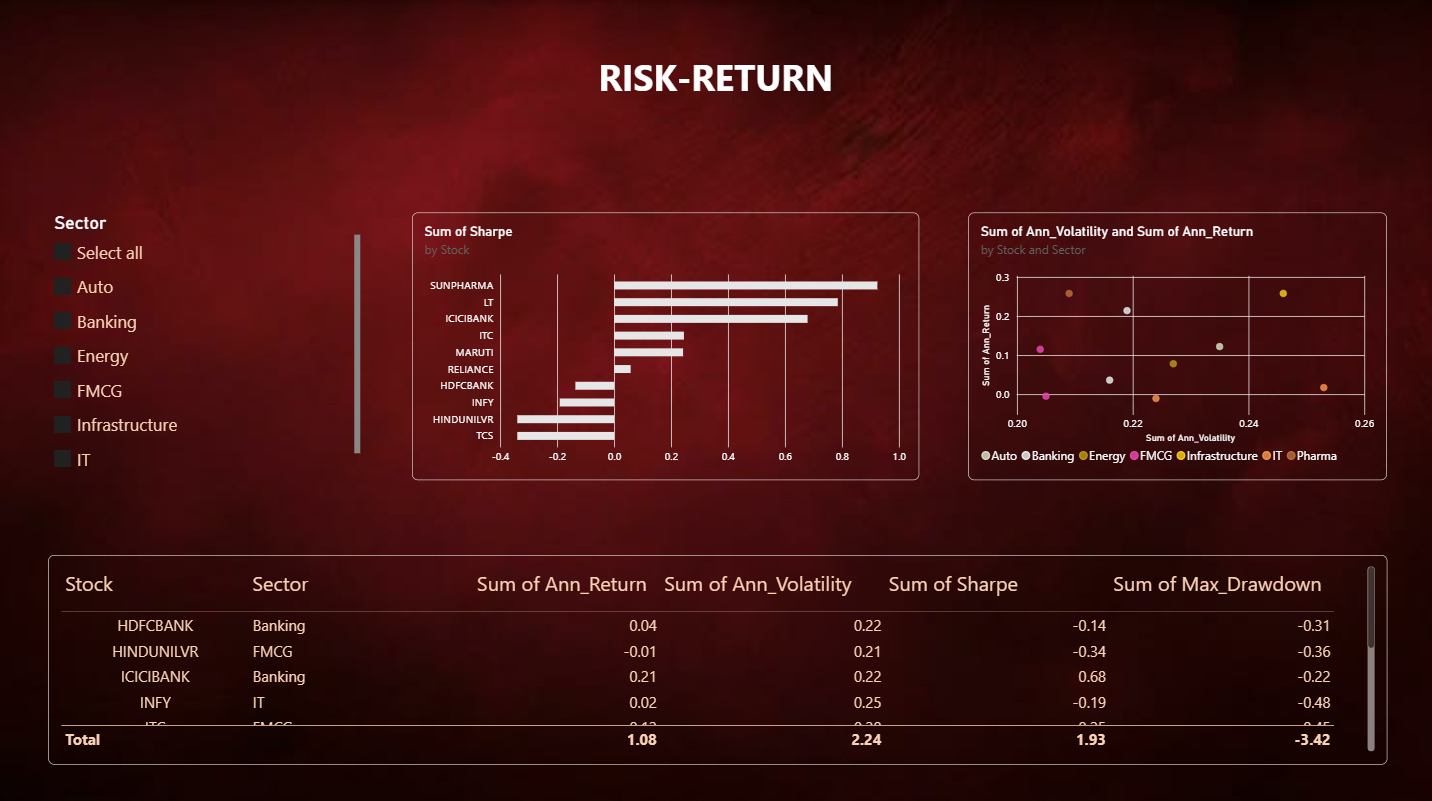

What the dashboard file says about the page in this screenshot:
{"tool":"powerbi","page":{"name":"risk-return","canvas":[1920,1080],"ordinal":3},"visuals":[{"type":"scatterChart","fields":{"Category":["Stocks.Stock"],"Series":["Stocks.Sector"],"X":["Sum(risk_return.Ann_Volatility)"],"Y":["Sum(risk_return.Ann_Return)"]},"box":[1298.1,283.3,559.3,357.4],"z":0},{"type":"textbox","box":[0,70.4,1920.4,98.1],"z":1000},{"type":"barChart","fields":{"Category":["Stocks.Stock"],"Y":["Sum(risk_return.Sharpe)"]},"box":[553.7,283.3,677.8,357.4],"z":2000},{"type":"tableEx","fields":{"Values":["Stocks.Stock","Stocks.Sector","Sum(risk_return.Ann_Return)","Sum(risk_return.Ann_Volatility)","Sum(risk_return.Sharpe)","Sum(risk_return.Max_Drawdown)"]},"box":[68.5,740.7,1788.9,279.6],"z":3000},{"type":"slicer","fields":{"Values":["Stocks.Sector"]},"box":[68.5,283.3,416.7,357.4],"z":4000}]}

Visuals, with their boxes in screenshot pixels (x1, y1, x2, y2), scaled from the page's 1920x1080 canvas onto the 1432x801 screenshot:
scatterChart - Stocks.Stock x Stocks.Sector: 968,210,1385,475
textbox: 0,52,1431,125
barChart - Stocks.Stock x Sum(risk_return.Sharpe): 413,210,918,475
tableEx - Stocks.Stock x Stocks.Sector: 51,549,1385,757
slicer - Stocks.Sector: 51,210,362,475
